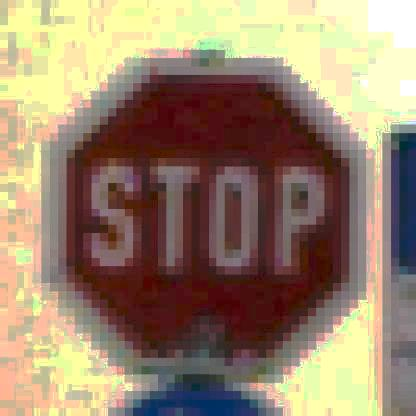Stop Sign: (47, 49, 384, 371)
